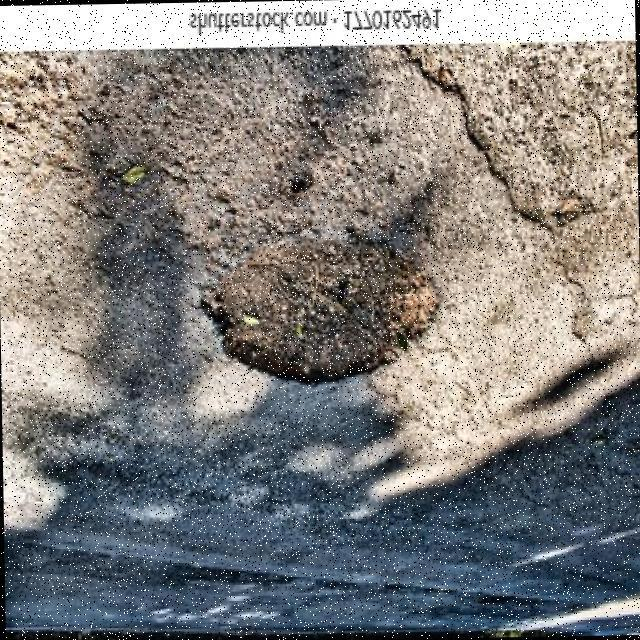Pothole: (201, 201, 444, 384)
